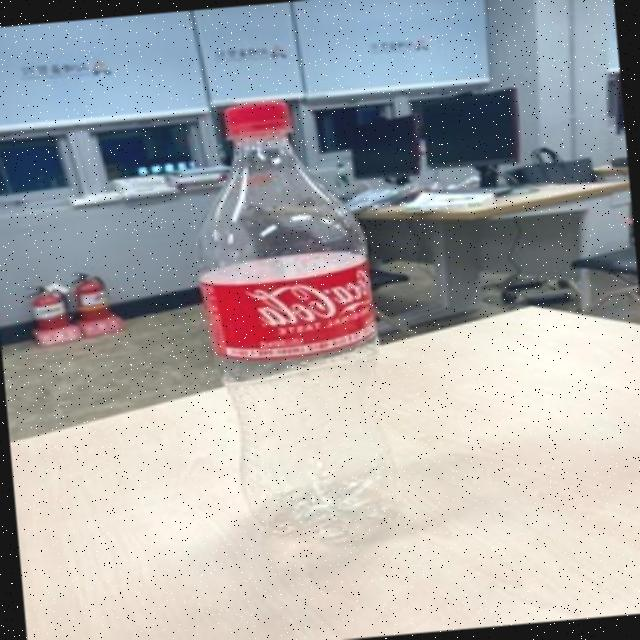bottle: (180, 80, 405, 572)
cap: (218, 96, 300, 146)
label: (170, 242, 407, 373)
